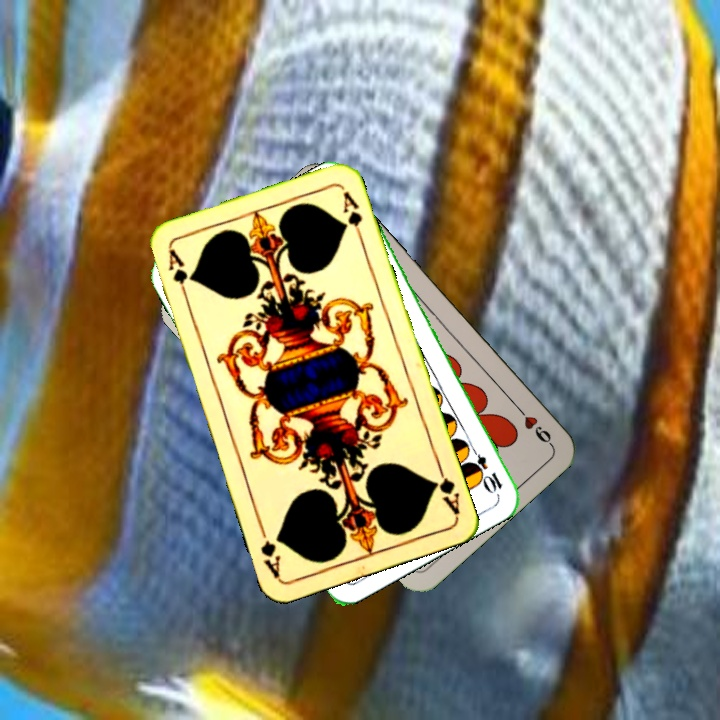E10: (464, 440, 505, 495)
GA: (428, 460, 463, 518), (164, 245, 192, 303)
H9: (510, 400, 555, 448)
